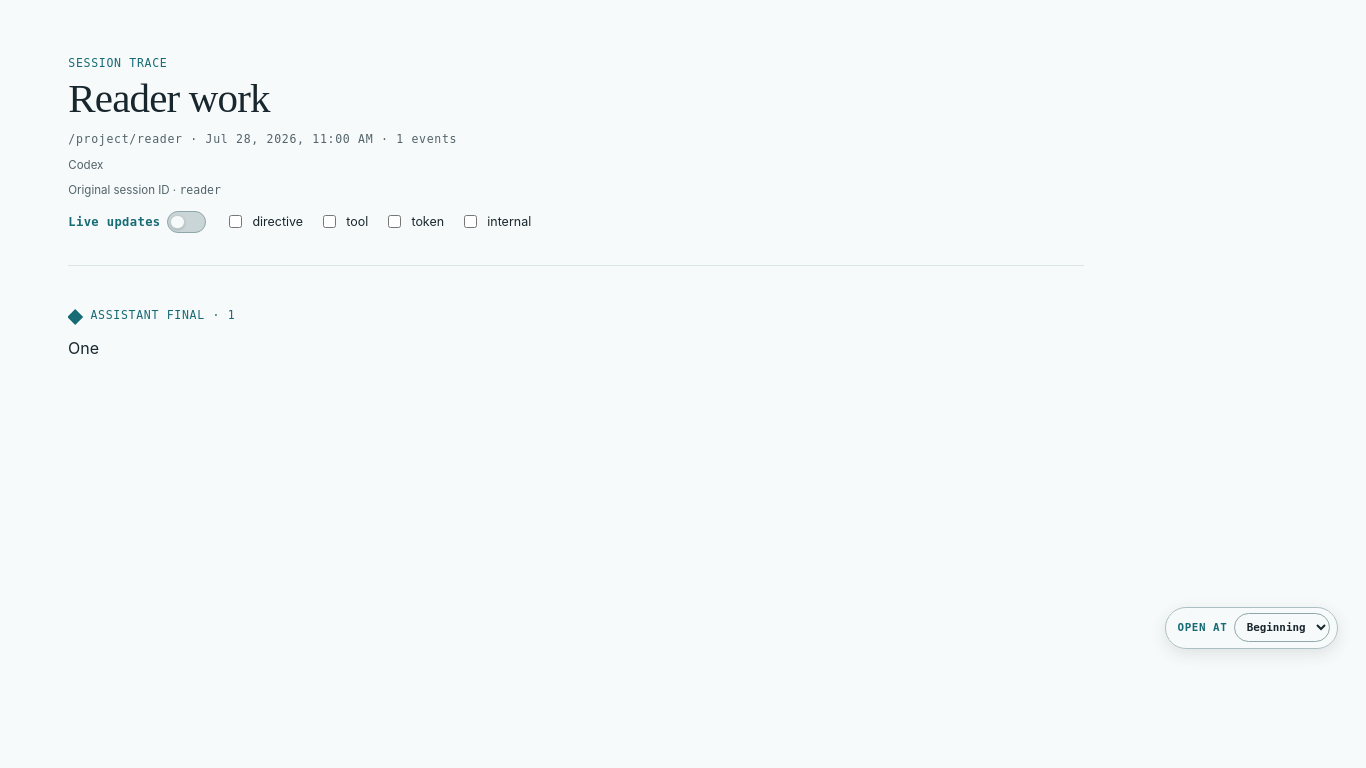
Test: session Live updates › discards an old Live response after manual pagination advances the snapshot
Click the switch named "Live updates": (186, 222) left=167, top=211, right=206, bottom=233
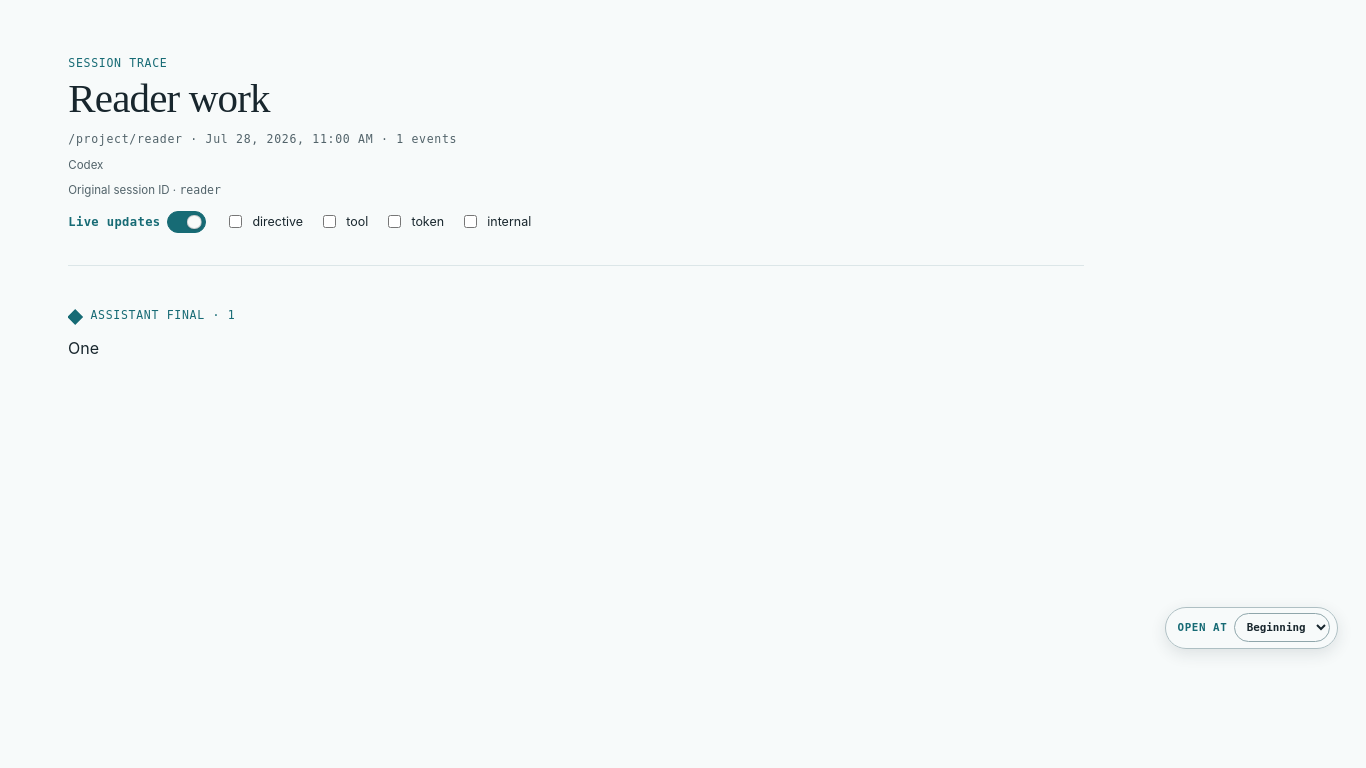
Click the switch named "Live updates": (186, 222) left=167, top=211, right=206, bottom=233
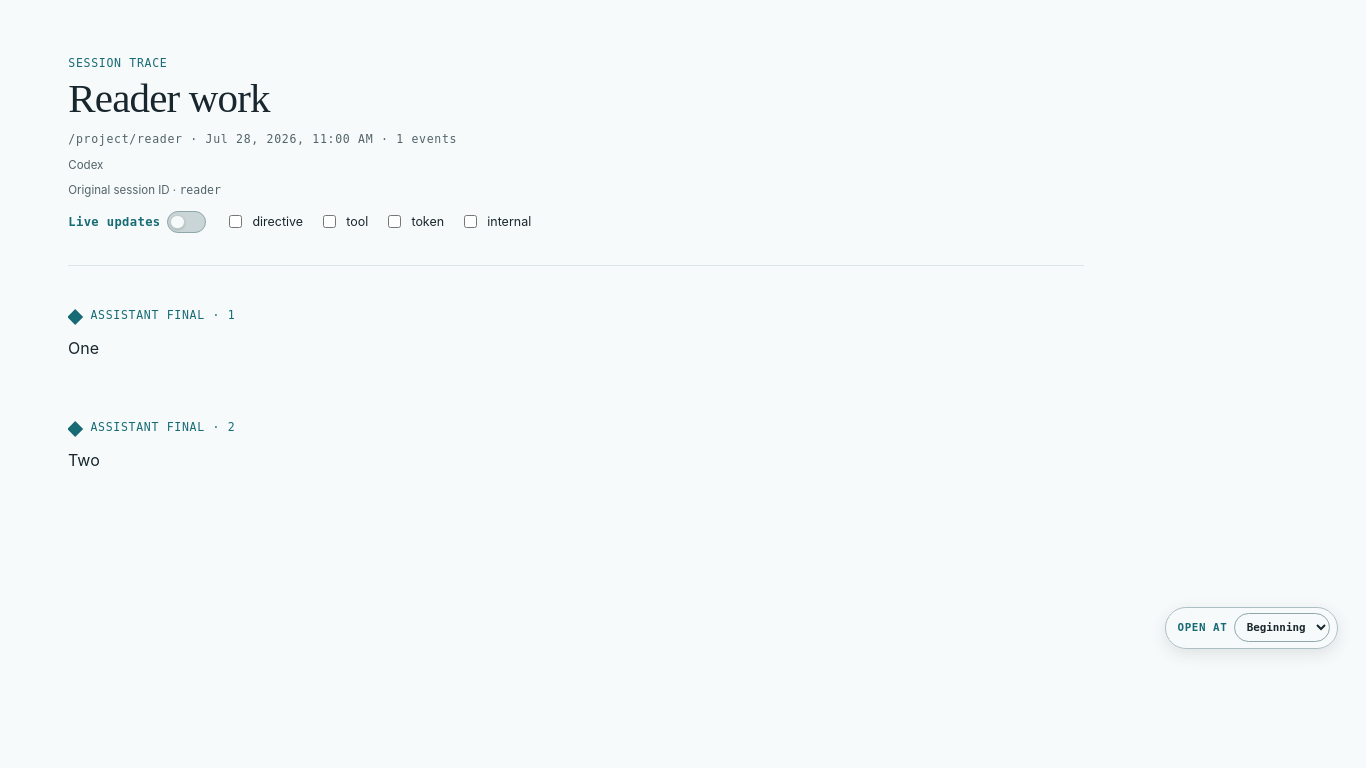
Expected: the heading "Reader work" is shown, left=68, top=75, right=270, bottom=121
Now the text "Two" is shown, box left=68, top=449, right=100, bottom=469
